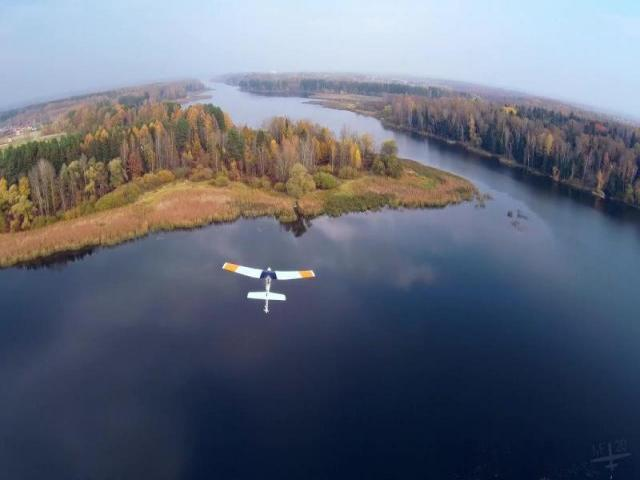hedef: (220, 252, 313, 317)
